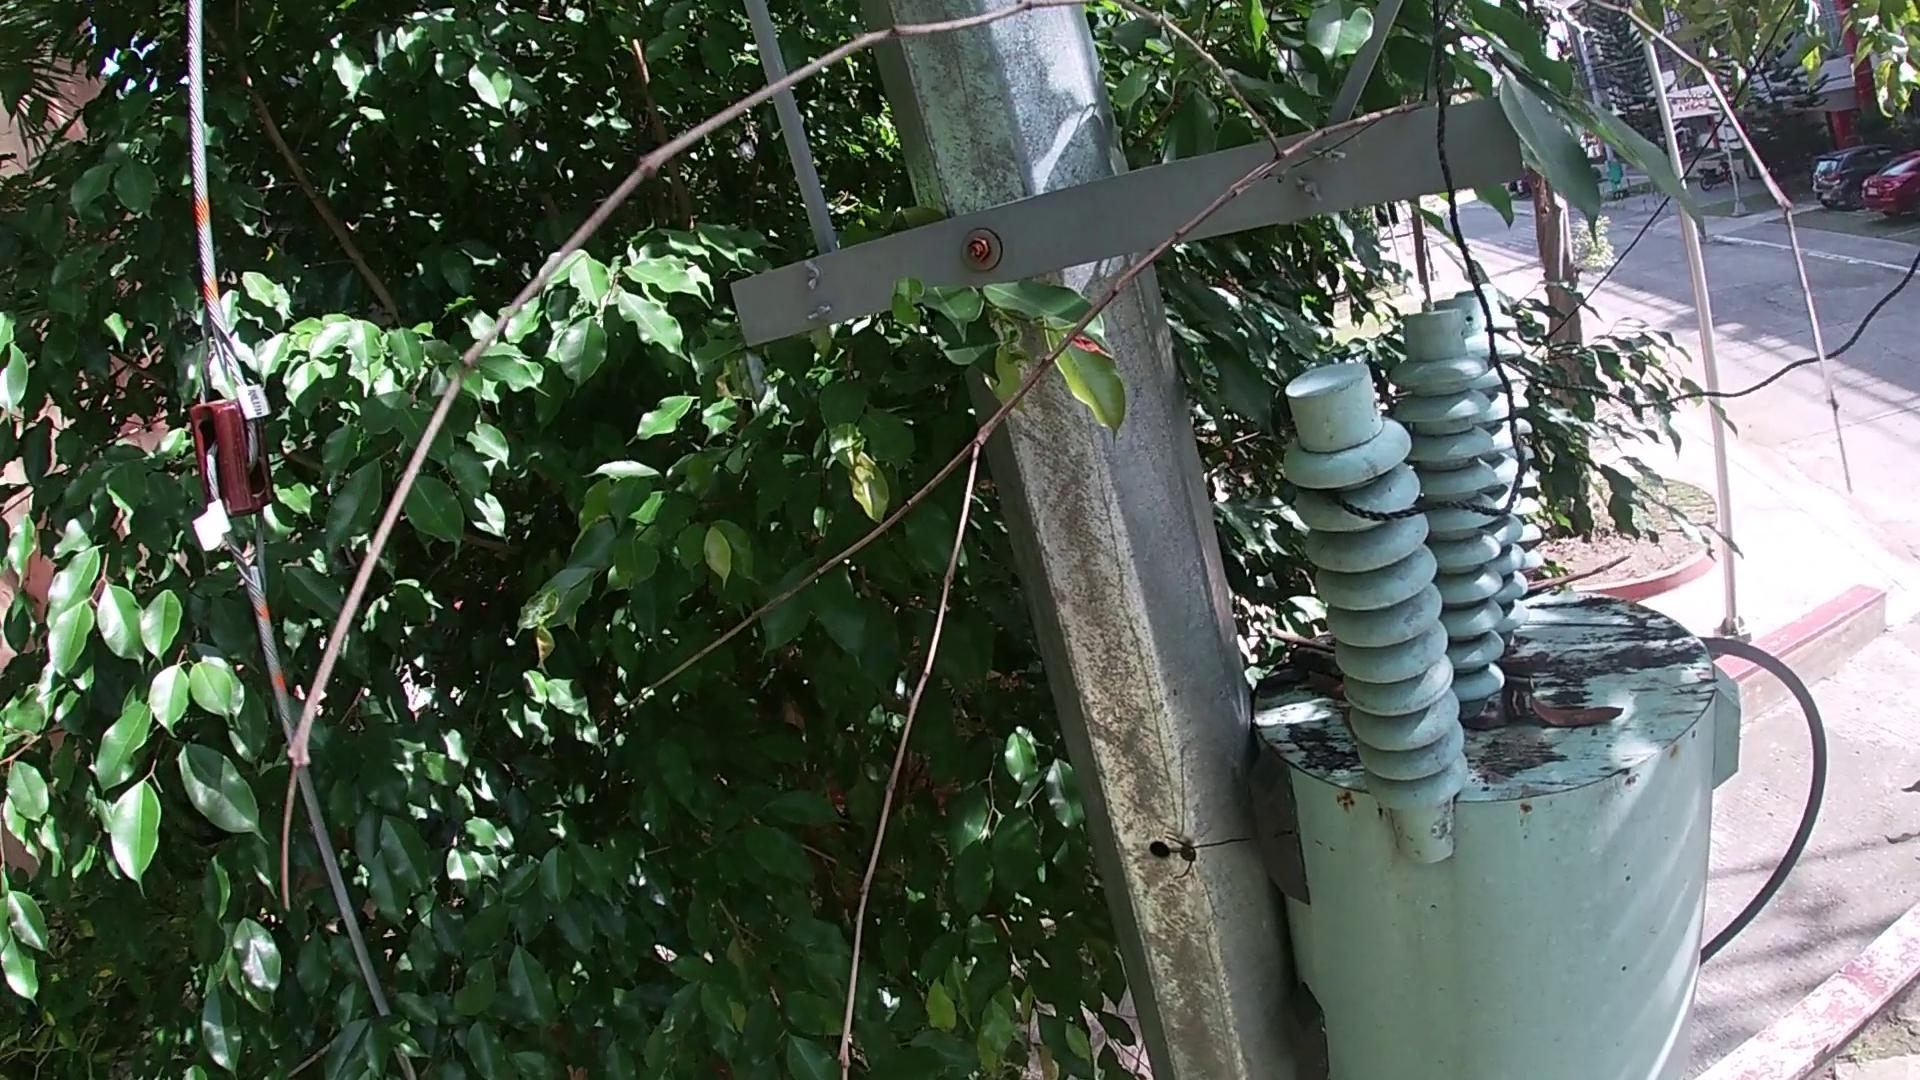leaf: (1520, 676, 1625, 733), (1302, 666, 1346, 705)
tree branch: (266, 1, 1859, 1077), (1520, 546, 1647, 605), (1265, 622, 1342, 674)
